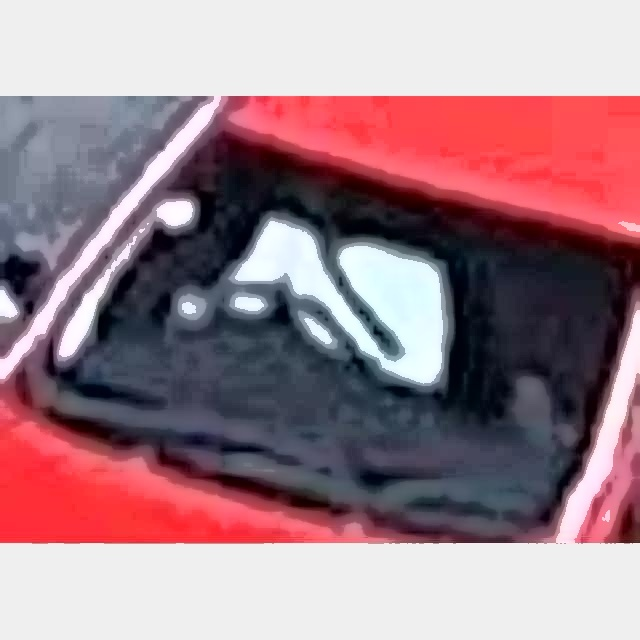pakai: (193, 192, 468, 371)
